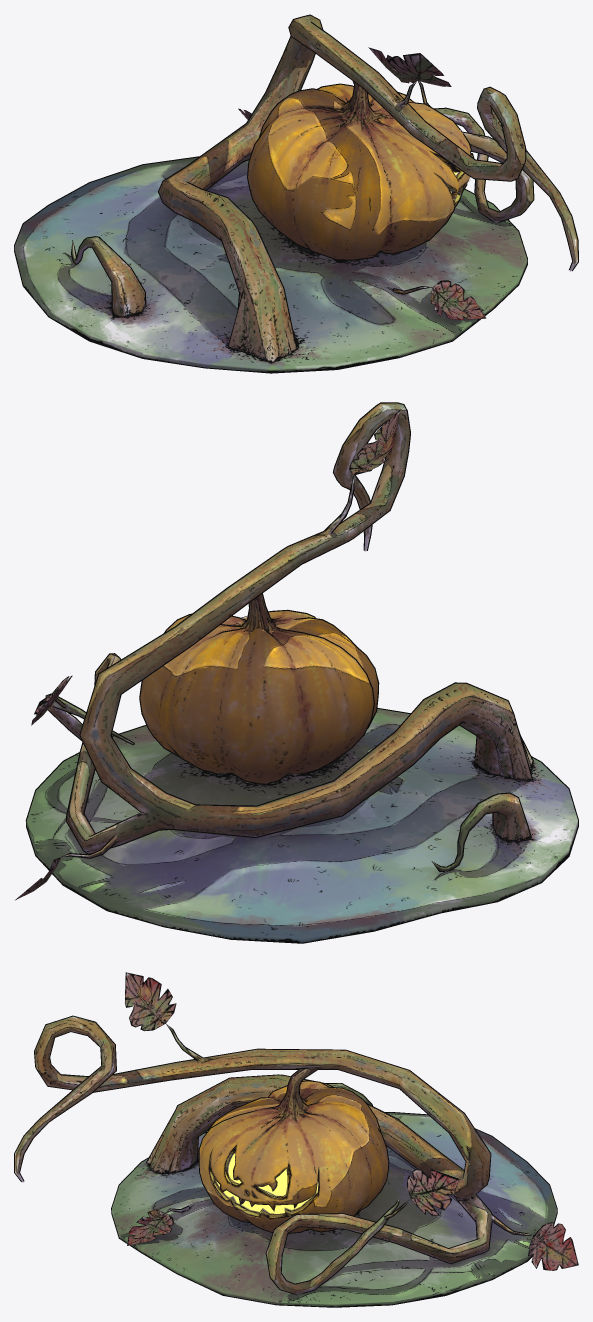
Rendered from pumpkin_final_step.glb.
3 renders of one model, top to bottom at view 1: azimuth 30°, elevation 25°; view 2: azimuth 150°, elevation 25°; view 3: azimuth 270°, elevation 25°, orthographic. The views are drawn at different scales.
Visible parts, largest first — view 1: step4, outline; view 2: step4, outline; view 3: step4, outline, mouth.
Part boxes in pixels (bbox=[...]): step4: bbox=[14, 15, 577, 372]; outline: bbox=[14, 14, 578, 373]; step4: bbox=[15, 403, 577, 942]; outline: bbox=[25, 402, 578, 943]; step4: bbox=[15, 972, 578, 1306]; outline: bbox=[14, 1015, 557, 1307]; mouth: bbox=[216, 1153, 318, 1213].
Size of the model in its own units: 4.81 by 3.01 by 6.02.
Materials: 3 (1 with a texture image).
